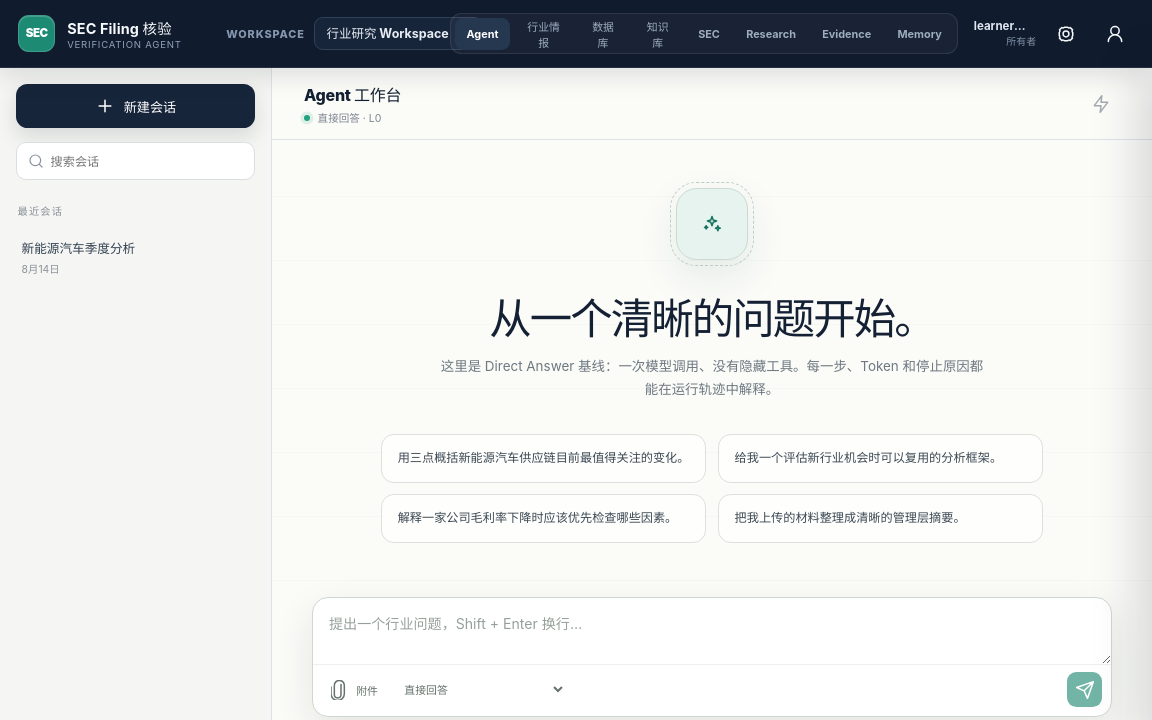
Chat Workbench › loads and selects a conversation while rendering its mode snapshot and untrusted Markdown safely
Click the button "新能源汽车季度分析 8月14日": click(132, 257) [10, 227, 254, 288]
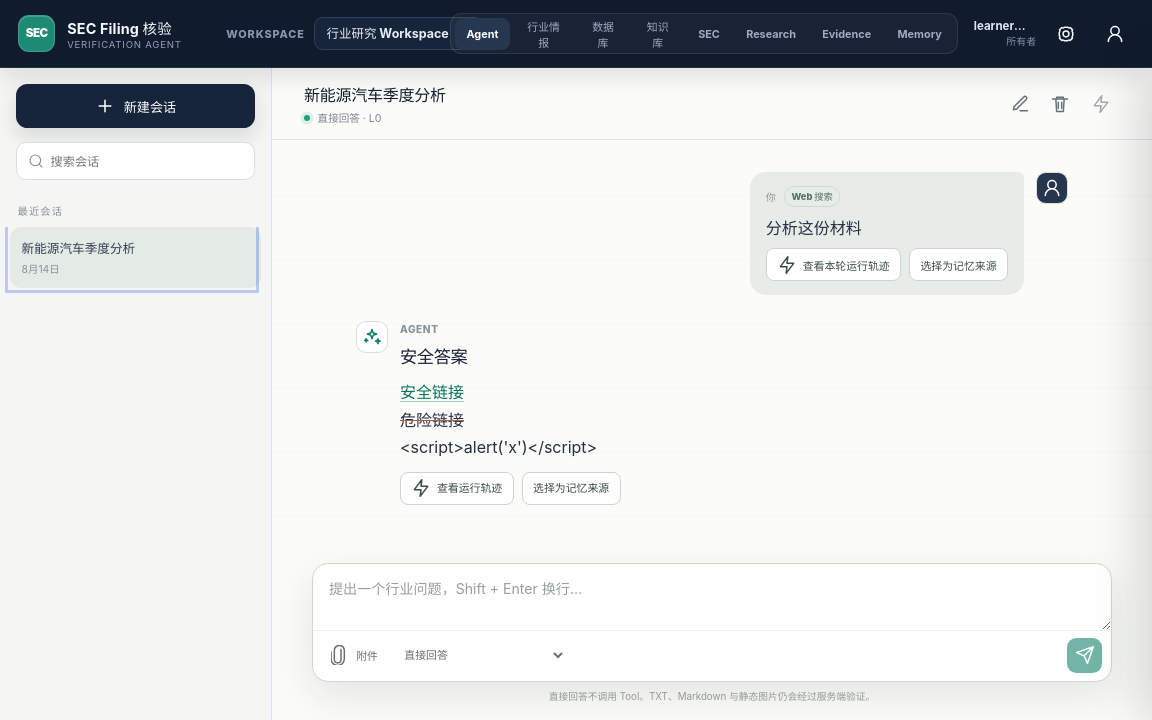
Now the heading "新能源汽车季度分析" is shown, box [304, 82, 446, 106]
Now the text "Web 搜索" is shown, box [784, 186, 840, 207]
Now the heading "安全答案" is shown, box [400, 346, 467, 367]
